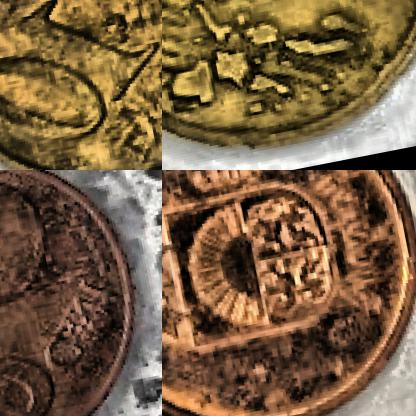coin: (162, 170, 415, 415), (162, 0, 415, 169), (0, 170, 153, 415), (0, 0, 161, 169)
